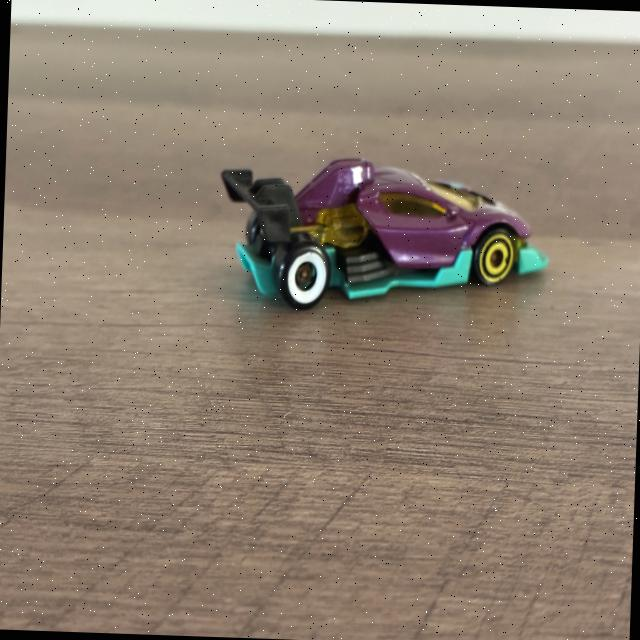cars: (221, 145, 548, 330)
